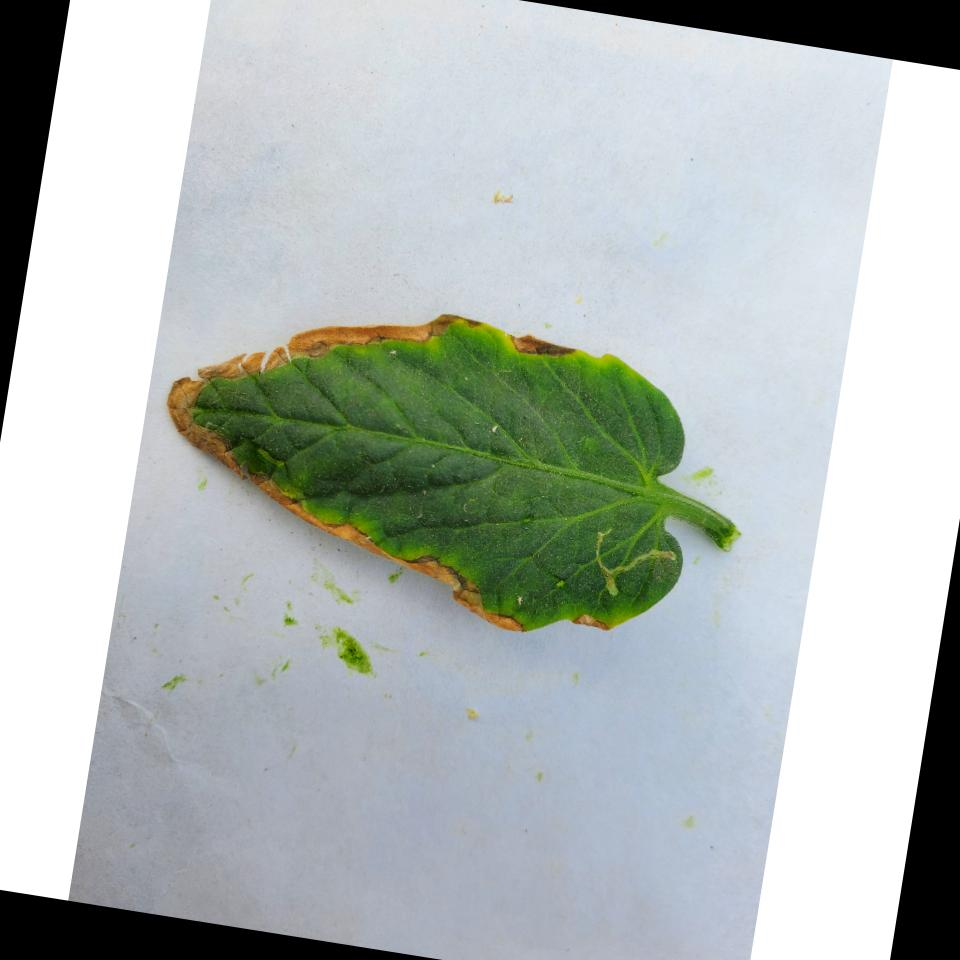tomato_bacterial_blight: (130, 256, 786, 656)
